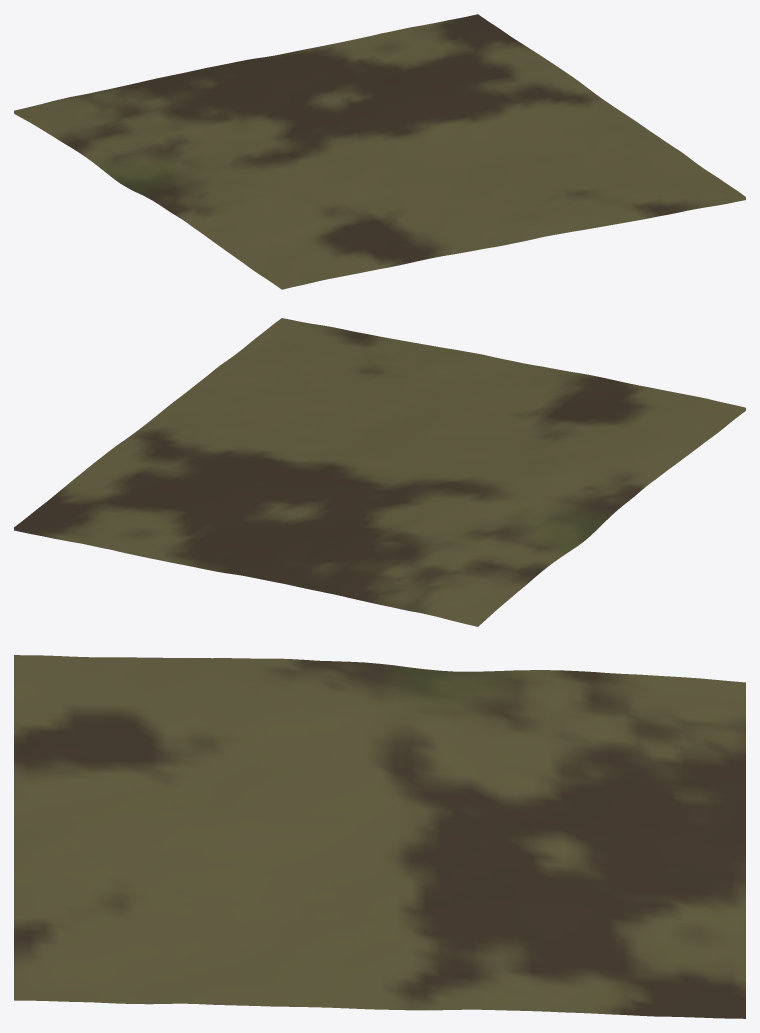
Rendered from land_m_11_05.glb.
The picture shows the model from 3 angles, top to bottom: view 1: azimuth 30°, elevation 25°; view 2: azimuth 150°, elevation 25°; view 3: azimuth 270°, elevation 25°; orthographic projection. The views are drawn at different scales.
Parts seen in each view (by area): view 1: land_m_11_05; view 2: land_m_11_05; view 3: land_m_11_05.
Part boxes in pixels (x1,y1,x2,y2): land_m_11_05: [14, 14, 745, 289]; land_m_11_05: [14, 318, 745, 626]; land_m_11_05: [14, 655, 745, 1018].
Size of the model in its own units: 960 by 78.76 by 960.
